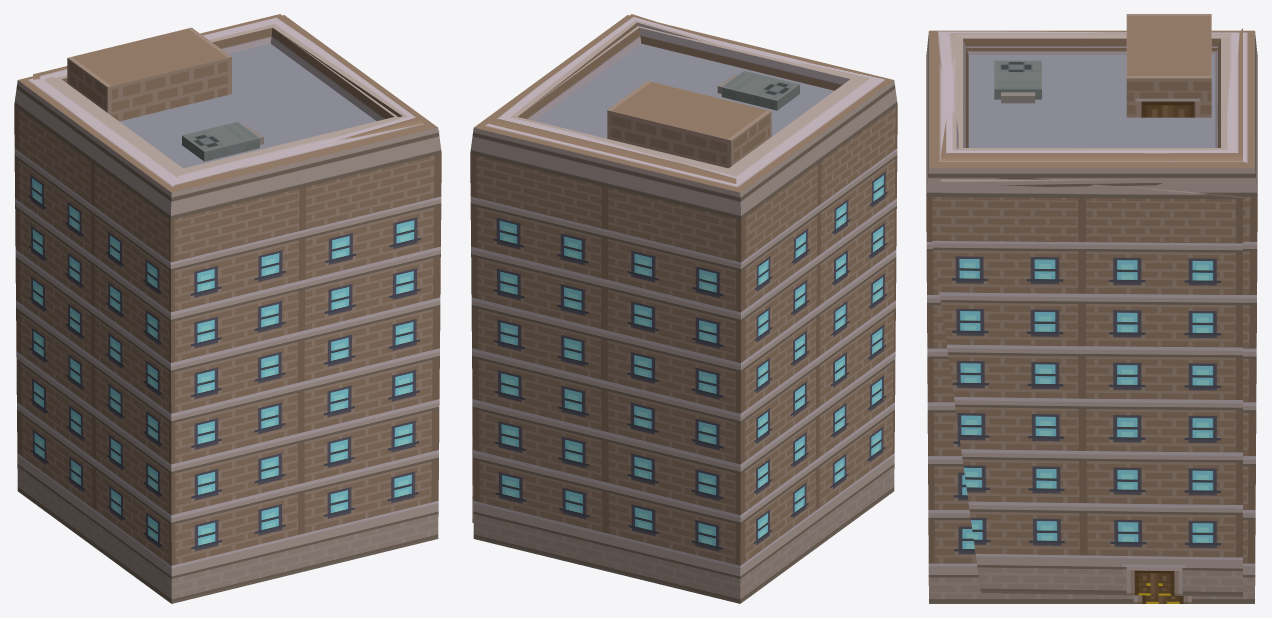
Rendered from Building.fbx.
3 renders of one model, left to right at view 1: azimuth 30°, elevation 25°; view 2: azimuth 150°, elevation 25°; view 3: azimuth 270°, elevation 25°, orthographic. The views are drawn at different scales.
Visible parts, largest first — view 1: shard3, shard1, shard9, shard5, shard7, shard10; view 2: shard3, shard1, shard5, shard9, shard7, shard10; view 3: shard9, shard3, shard1, shard5, shard10, shard7, shard8.
Boxes of the visible parts, x1=… form: shard3: x1=14, y1=15, x2=441, y2=603; shard1: x1=67, y1=27, x2=231, y2=121; shard9: x1=36, y1=76, x2=291, y2=192; shard5: x1=33, y1=14, x2=422, y2=145; shard7: x1=182, y1=122, x2=259, y2=161; shard10: x1=282, y1=15, x2=422, y2=118; shard3: x1=470, y1=15, x2=897, y2=603; shard1: x1=607, y1=81, x2=771, y2=168; shard5: x1=489, y1=14, x2=736, y2=183; shard9: x1=472, y1=52, x2=893, y2=522; shard7: x1=721, y1=71, x2=799, y2=110; shard10: x1=491, y1=14, x2=636, y2=116; shard9: x1=926, y1=30, x2=1242, y2=596; shard3: x1=926, y1=30, x2=1257, y2=603; shard1: x1=1126, y1=14, x2=1211, y2=117; shard5: x1=941, y1=28, x2=1242, y2=155; shard10: x1=941, y1=148, x2=1242, y2=161; shard7: x1=994, y1=60, x2=1041, y2=99; shard8: x1=941, y1=179, x2=1171, y2=188.
Bounding box in the file's own units: 1.63 × 2.49 × 1.6.
